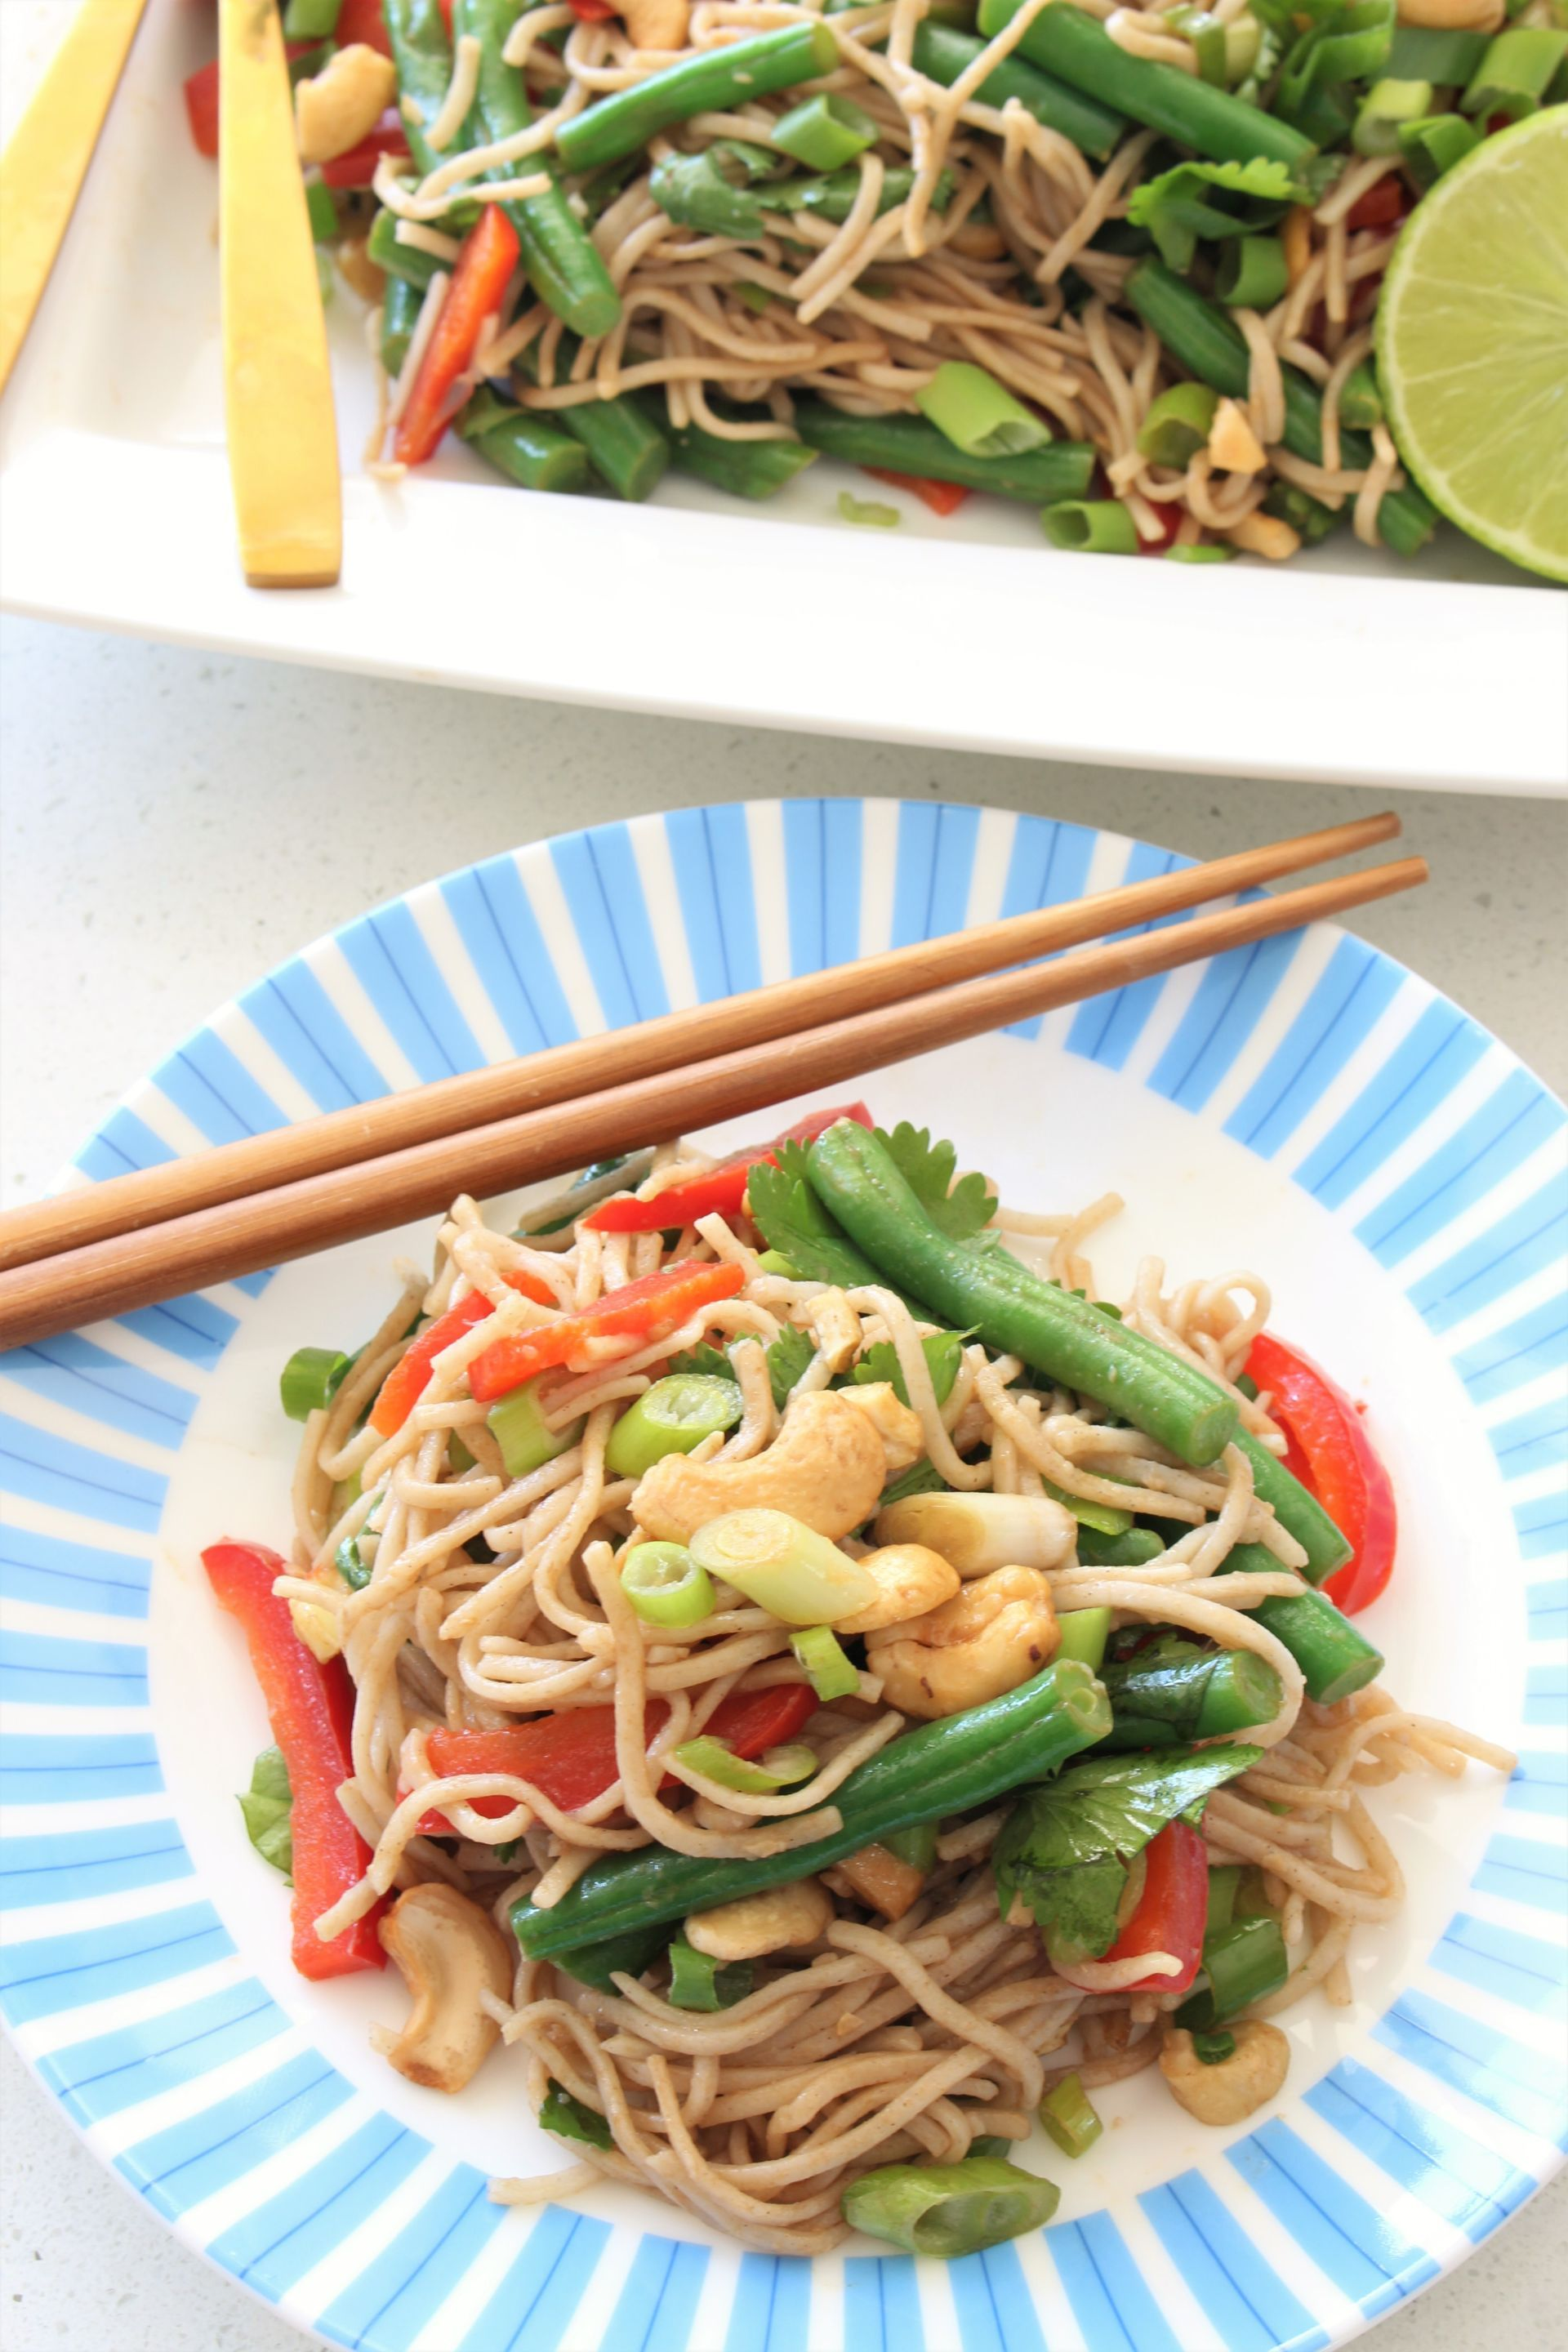Soba: (296, 1209, 1419, 2277)
